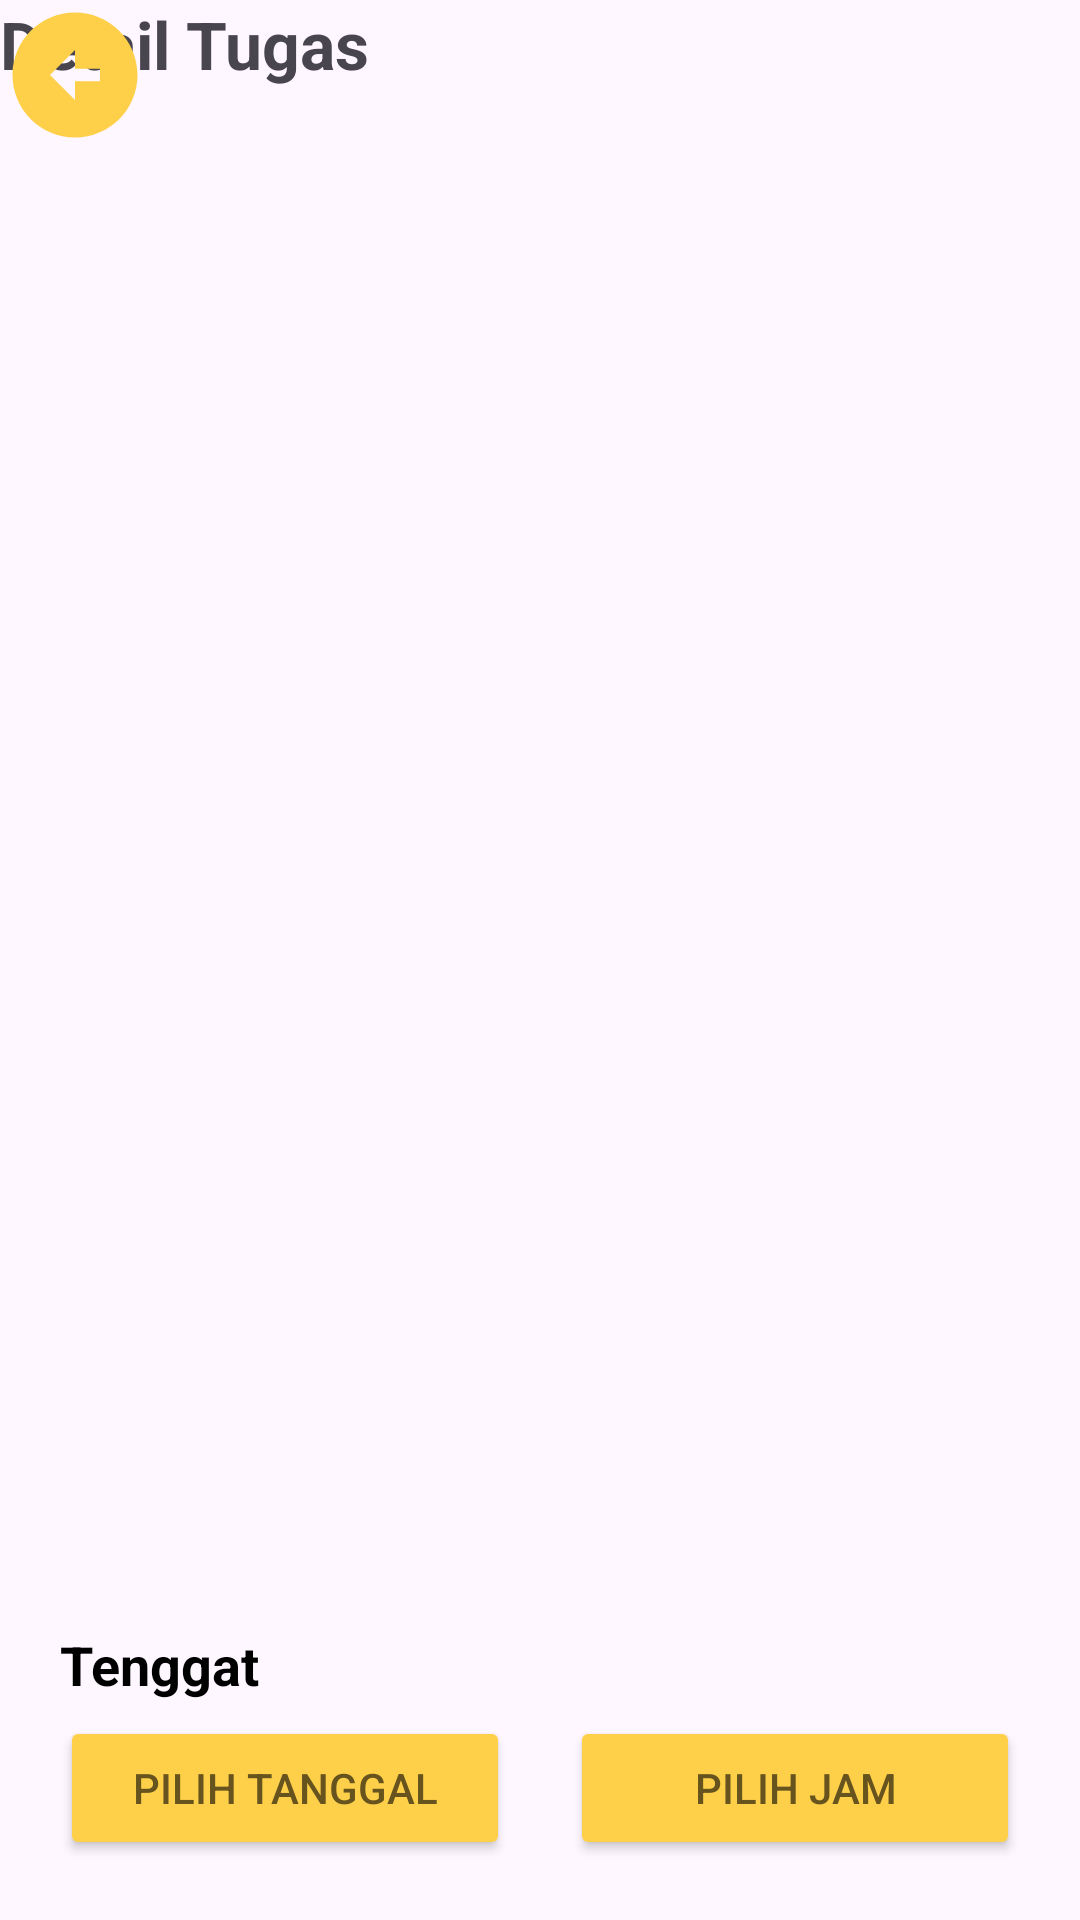

Named icons in this screenshot (1080 × 1920) and their centers, point (x, y):
arrow circle left: point (77, 75)
